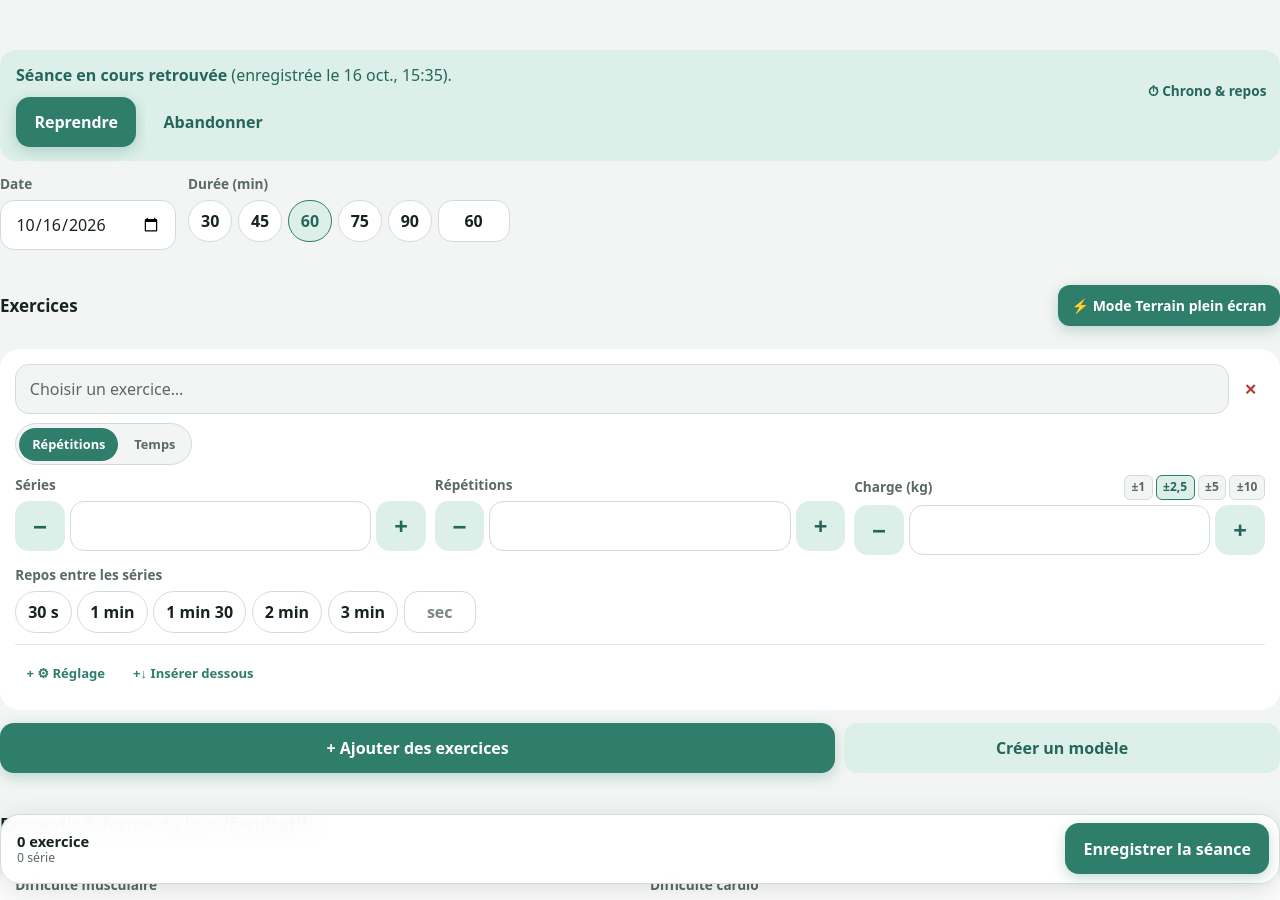
it: NouvelleSeance - Sauvegarde du brouillon et Mode Terrain ([P1-02]) › permet d’abandonner le brouillon directement depuis le Mode Terrain
# Basculer en Mode Terrain
Click the button "⚡ Mode Terrain plein écran" at coordinates (1169, 306), box [1058,285,1279,326]
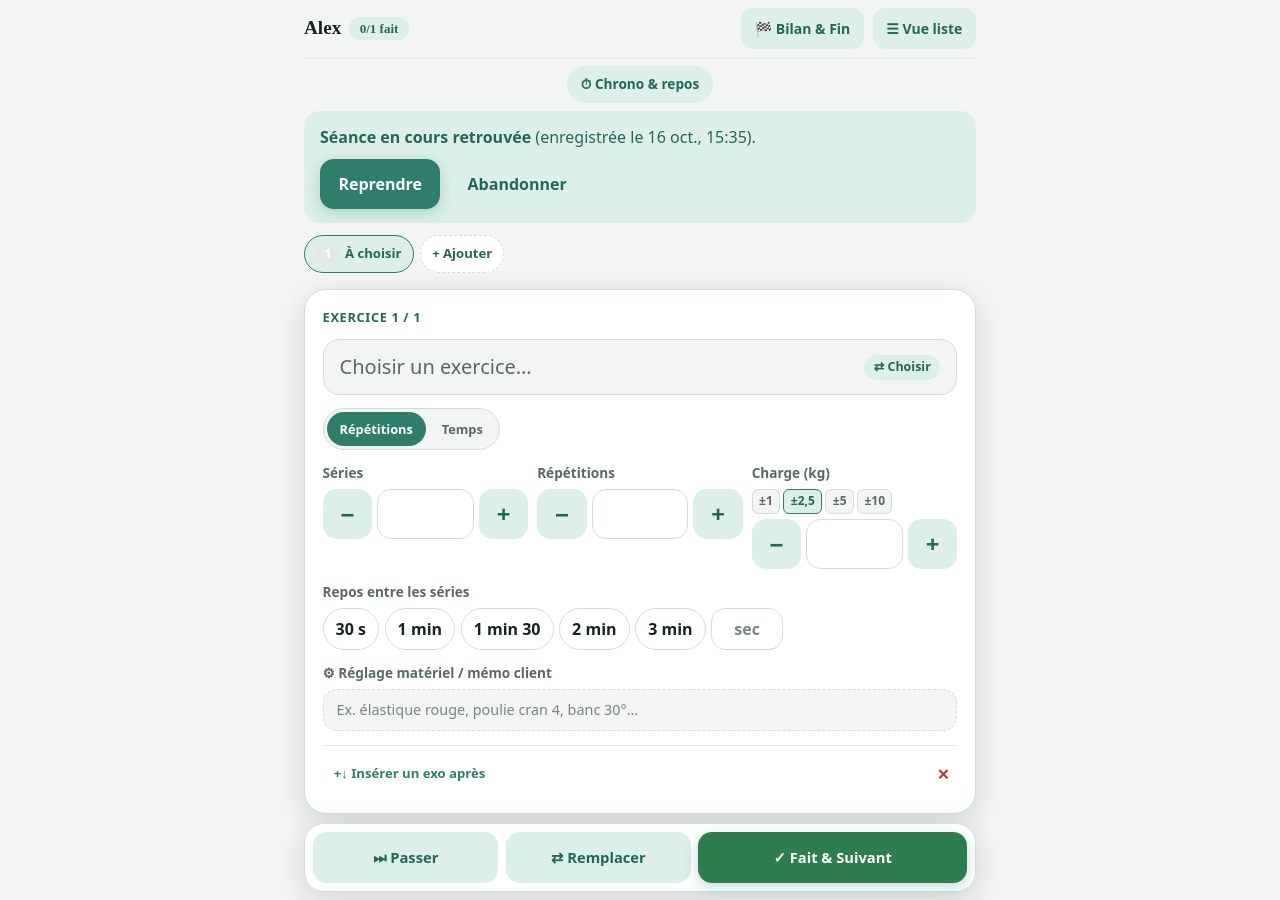
# Cliquer sur "Abandonner"
Click the button "Abandonner" at coordinates (517, 184), box [449,159,585,209]
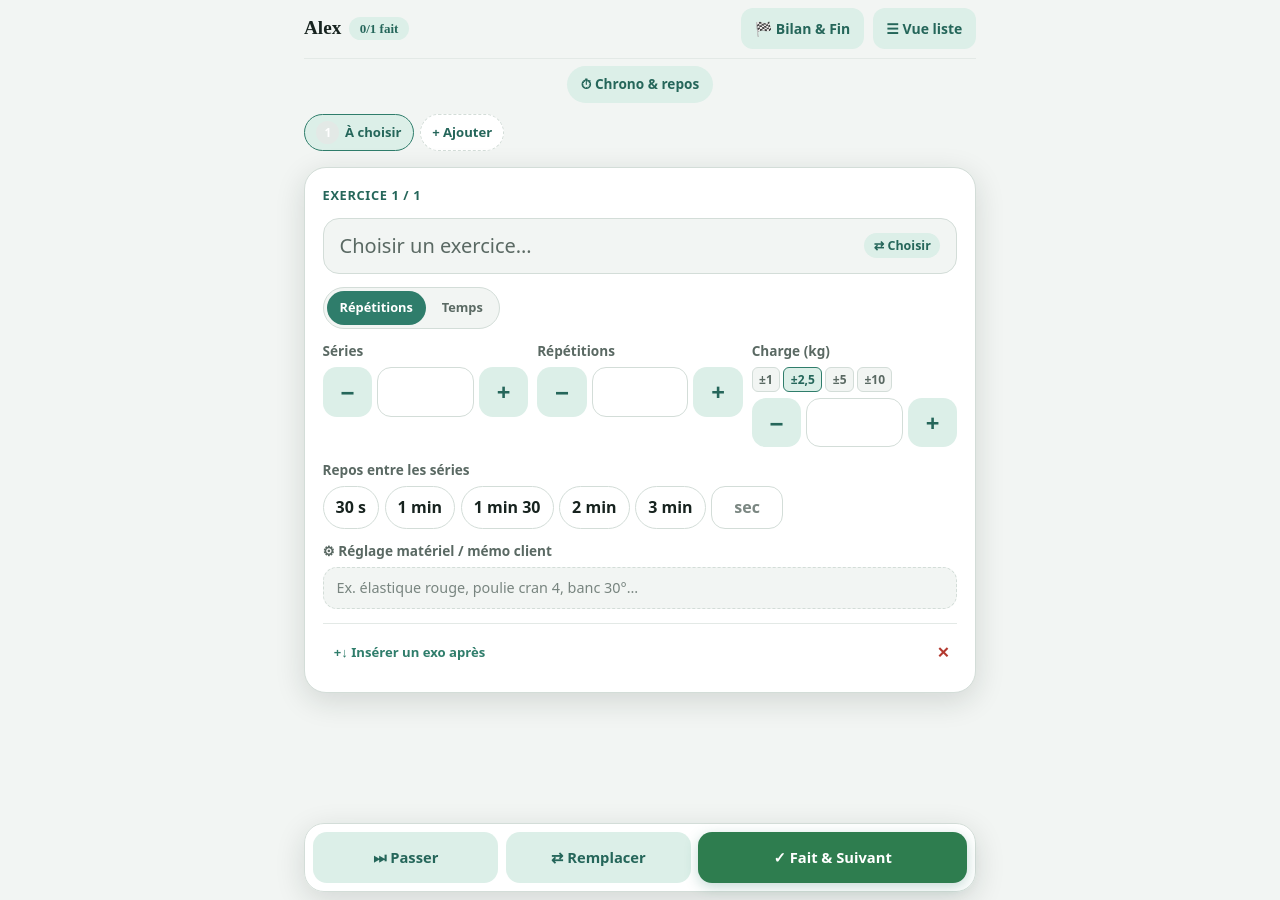
Expected: the text "Séance en cours retrouvée" is gone
